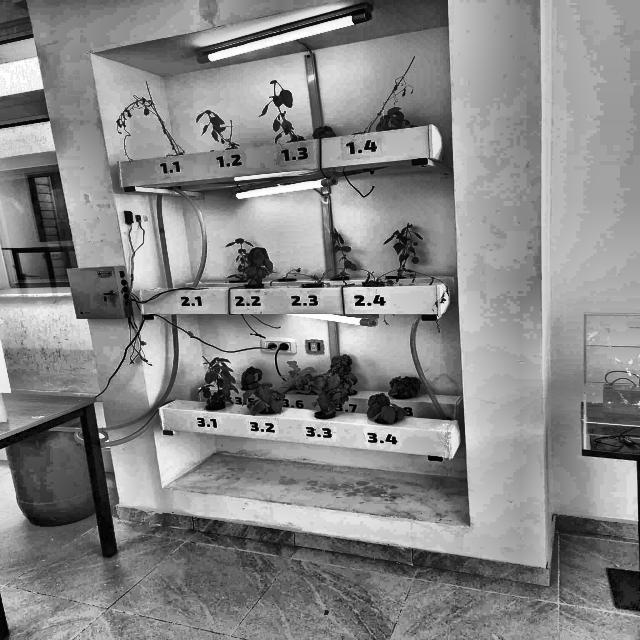plants: (117, 83, 186, 156), (376, 269, 454, 331), (360, 57, 416, 132), (257, 80, 302, 142), (195, 357, 240, 417), (384, 222, 426, 278), (310, 368, 347, 415), (316, 267, 376, 294), (275, 362, 322, 394), (196, 112, 235, 150), (225, 233, 253, 281), (328, 232, 356, 278), (248, 383, 285, 415), (245, 244, 270, 287), (370, 393, 404, 423), (332, 355, 357, 393), (376, 104, 412, 130), (391, 378, 421, 400), (275, 267, 309, 282), (240, 366, 258, 389), (311, 125, 338, 138)
